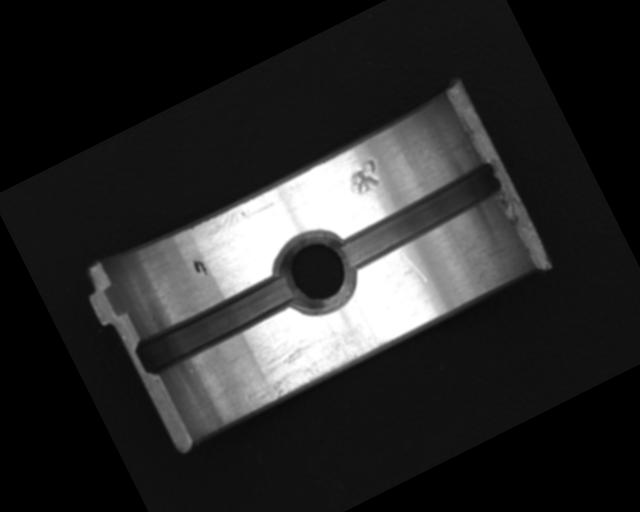blot: (190, 254, 210, 280)
bruise: (340, 155, 386, 199)
gap: (331, 157, 508, 274), (131, 267, 301, 378)
hole: (263, 218, 370, 326)
nick: (397, 244, 428, 287)
scratch: (229, 302, 394, 415)
